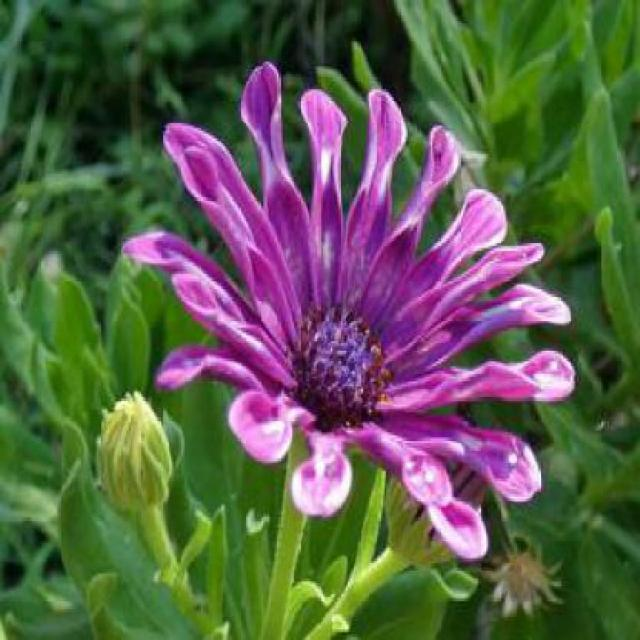Flower: (119, 62, 575, 560), (296, 305, 389, 423)
